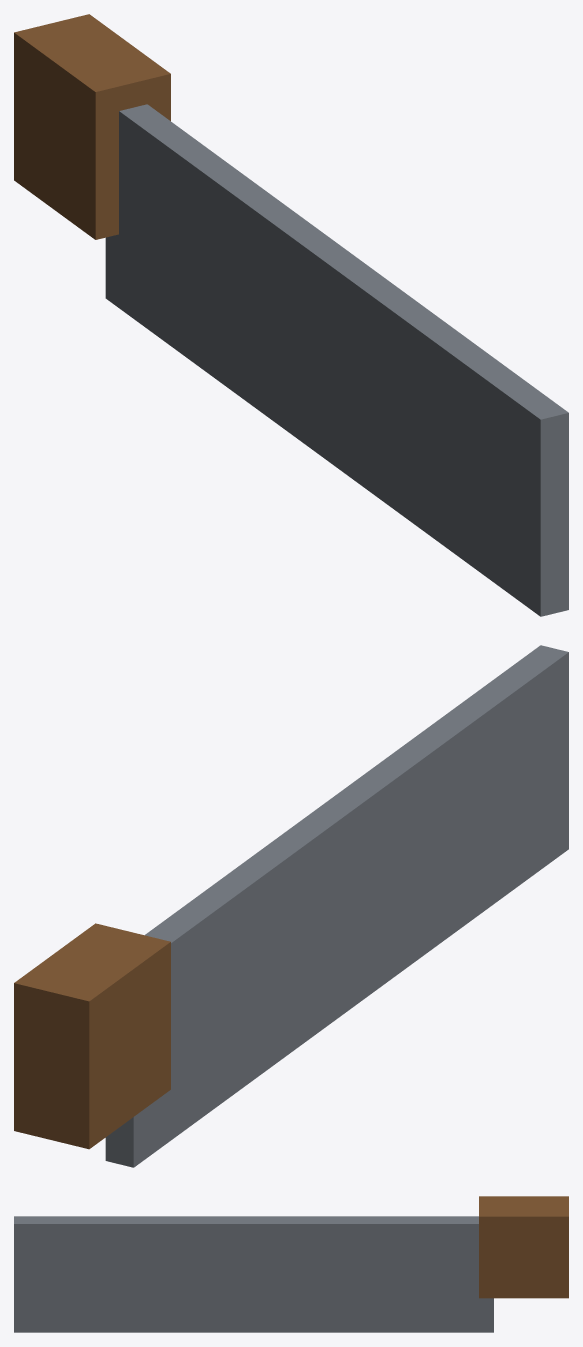
The model's file is tool_saw.glb.
The picture shows the model from 3 angles, top to bottom: view 1: azimuth 30°, elevation 25°; view 2: azimuth 150°, elevation 25°; view 3: azimuth 270°, elevation 25°; orthographic projection. The views are drawn at different scales.
Visible parts, largest first — view 1: tool_saw; view 2: tool_saw; view 3: tool_saw.
Boxes of the visible parts, <box> form: tool_saw: <box>14,14,568,616</box>; tool_saw: <box>14,645,568,1167</box>; tool_saw: <box>14,1196,568,1332</box>.
Size of the model in its own units: 0.016 by 0.045 by 0.185.
